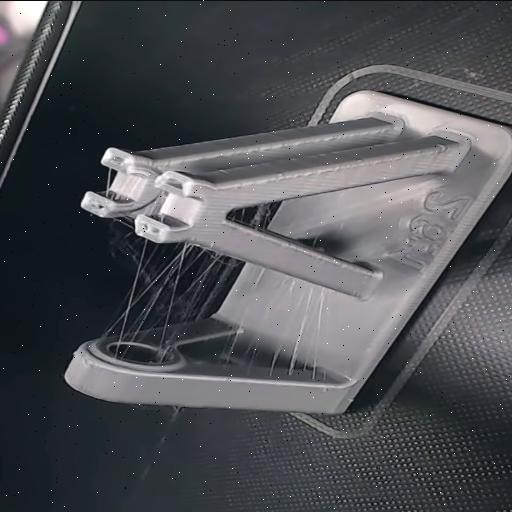stringing: (223, 262, 331, 376), (106, 222, 195, 358), (104, 169, 136, 203)
